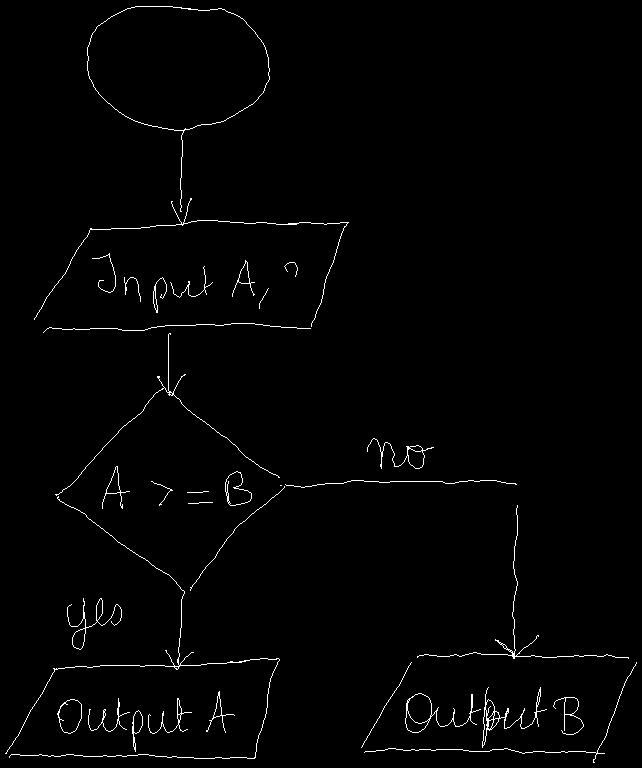arrow: (285, 480, 538, 658), (165, 591, 193, 669), (171, 128, 191, 225), (157, 333, 185, 395)
connection: (87, 6, 269, 130)
data: (34, 220, 348, 332), (361, 652, 636, 762), (5, 658, 279, 758)
decision: (55, 388, 284, 591)
text: (92, 253, 297, 312), (405, 687, 583, 747), (57, 691, 234, 751), (102, 466, 251, 508), (67, 598, 121, 649), (367, 438, 433, 468)
